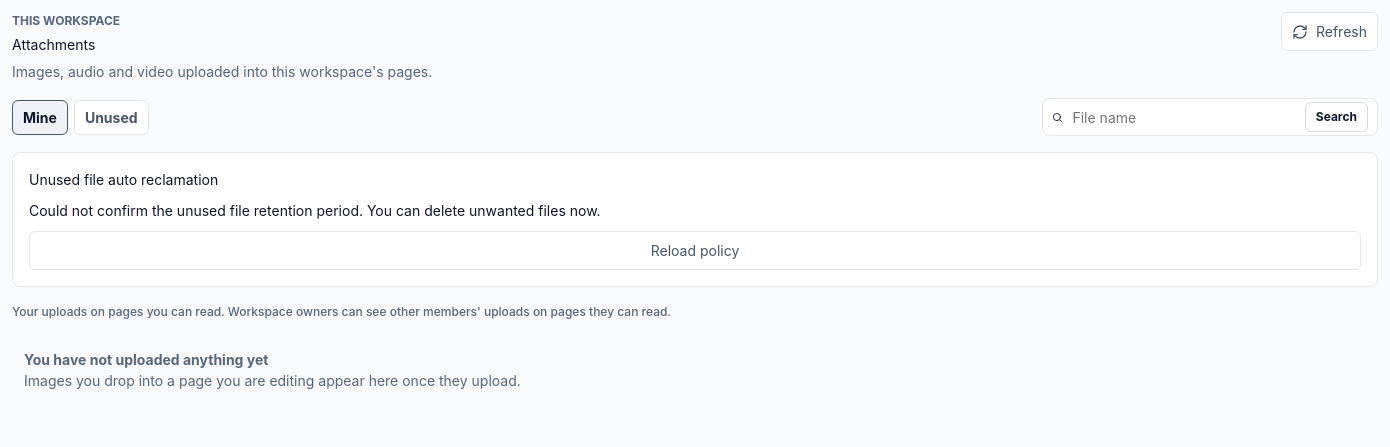
Test: AttachmentsSection › shows a reassuring empty state, not an error, when there is nothing to clean up
expect the text "You have not uploaded anything yet" is shown: met, box [24, 351, 268, 368]
What coordinates should you click on to do the following:
click the radio button labelled "Unused"
I would click on:
 (111, 117)
Its box is [74, 100, 149, 134].
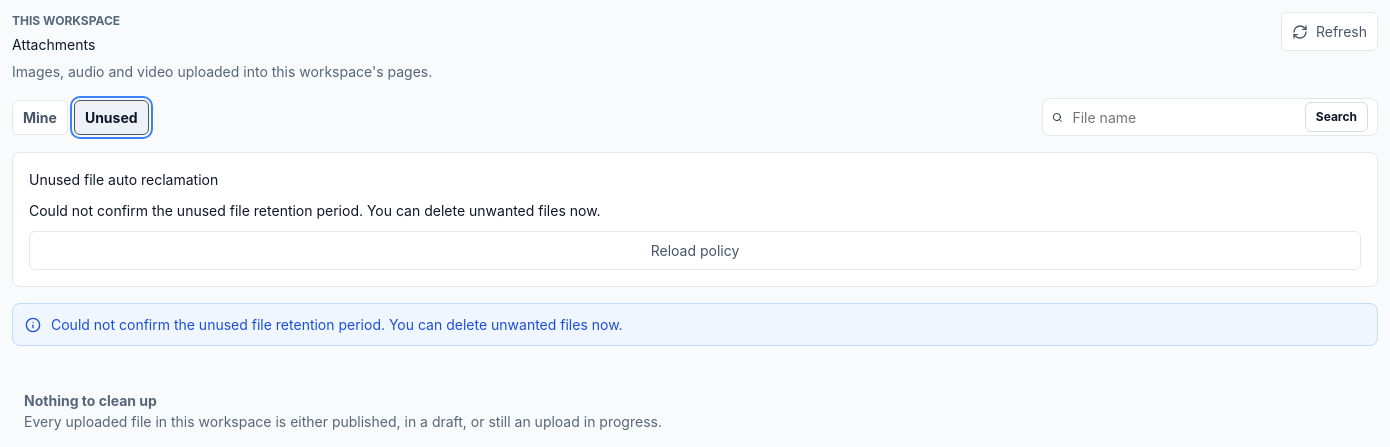
expect the text "Nothing to clean up" is shown: met, box [24, 392, 157, 409]
